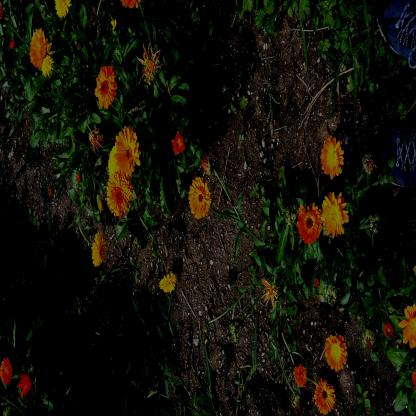marigold: (115, 127, 139, 175), (107, 174, 132, 217), (323, 194, 347, 238), (298, 204, 322, 244), (96, 65, 117, 109), (189, 177, 210, 219), (321, 138, 343, 177), (326, 336, 346, 373), (402, 304, 416, 349), (30, 30, 47, 66), (316, 378, 334, 412), (92, 233, 107, 267), (160, 274, 177, 292), (0, 359, 12, 384), (295, 367, 306, 386)
